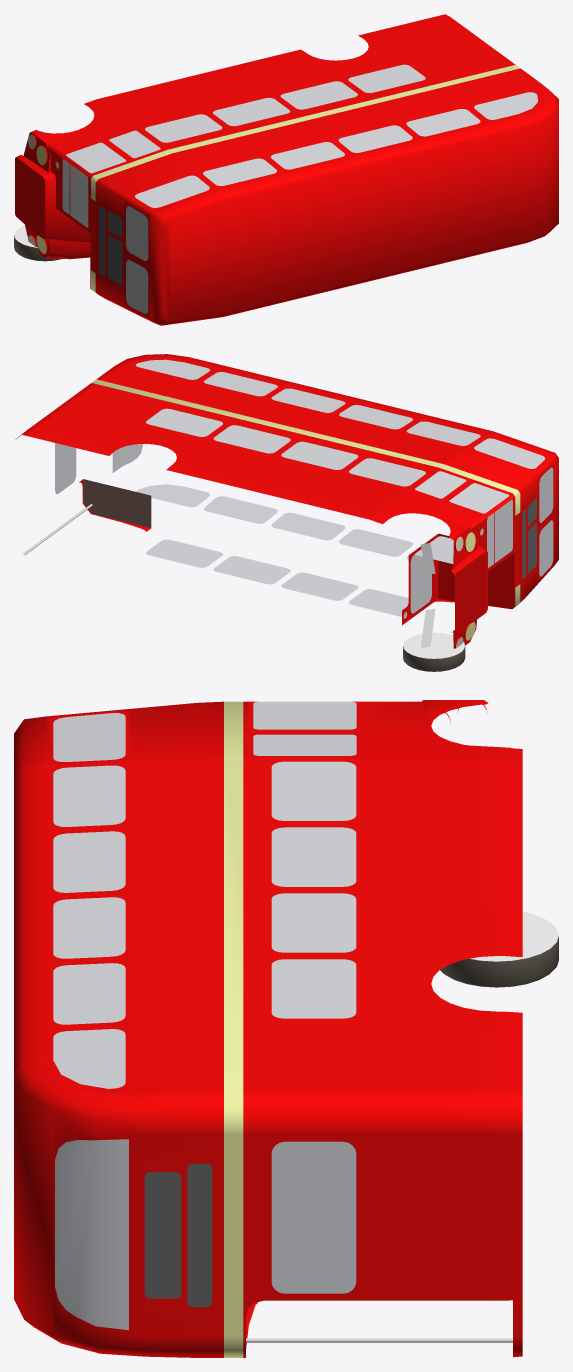
The model's file is bus2.gltf.
The picture shows the model from 3 angles, top to bottom: view 1: azimuth 30°, elevation 25°; view 2: azimuth 150°, elevation 25°; view 3: azimuth 270°, elevation 25°; orthographic projection. The views are drawn at different scales.
Visible parts, largest first — view 1: group_0, ID68, ID290, ID254, ID148, ID310, ID82, ID230, ID154, ID100, ID142, ID206 (+10 smaller); view 2: group_0, ID68, ID192, ID290, ID254, ID218, ID212, ID148, ID82, ID178, ID230, ID224 (+22 smaller); view 3: group_0, ID54, ID68, ID166, ID148, ID230, ID82, ID254, ID342, ID206, ID154, ID142 (+10 smaller).
Part boxes in pixels (x1,y1,x2,y2): group_0: (16, 14, 558, 325); ID68: (91, 65, 519, 293); ID290: (15, 157, 42, 236); ID254: (145, 114, 222, 142); ID148: (280, 81, 357, 109); ID310: (135, 175, 209, 207); ID82: (348, 64, 425, 92); ID230: (213, 98, 289, 126); ID154: (406, 109, 480, 136); ID100: (271, 142, 344, 169); ID142: (338, 125, 412, 152); ID206: (203, 158, 276, 185); group_0: (15, 354, 558, 648); ID68: (92, 379, 520, 607); ID192: (83, 479, 151, 527); ID290: (455, 553, 485, 631); ID254: (349, 458, 425, 486); ID218: (213, 556, 290, 584); ID212: (281, 572, 358, 600); ID148: (213, 425, 290, 453); ID82: (146, 408, 222, 436); ID178: (146, 539, 223, 567); ID230: (281, 441, 358, 469); ID224: (271, 512, 345, 540); group_0: (14, 700, 522, 1357); ID54: (55, 1139, 128, 1330); ID68: (224, 701, 243, 1357); ID166: (271, 1141, 356, 1293); ID148: (271, 893, 356, 952); ID230: (271, 827, 356, 886); ID82: (271, 959, 356, 1018); ID254: (271, 761, 356, 820); ID342: (144, 1172, 181, 1298); ID206: (53, 765, 125, 826); ID154: (53, 963, 125, 1024); ID142: (53, 897, 125, 958).
Size of the model in its own units: 8.19 by 2.32 by 4.39.
